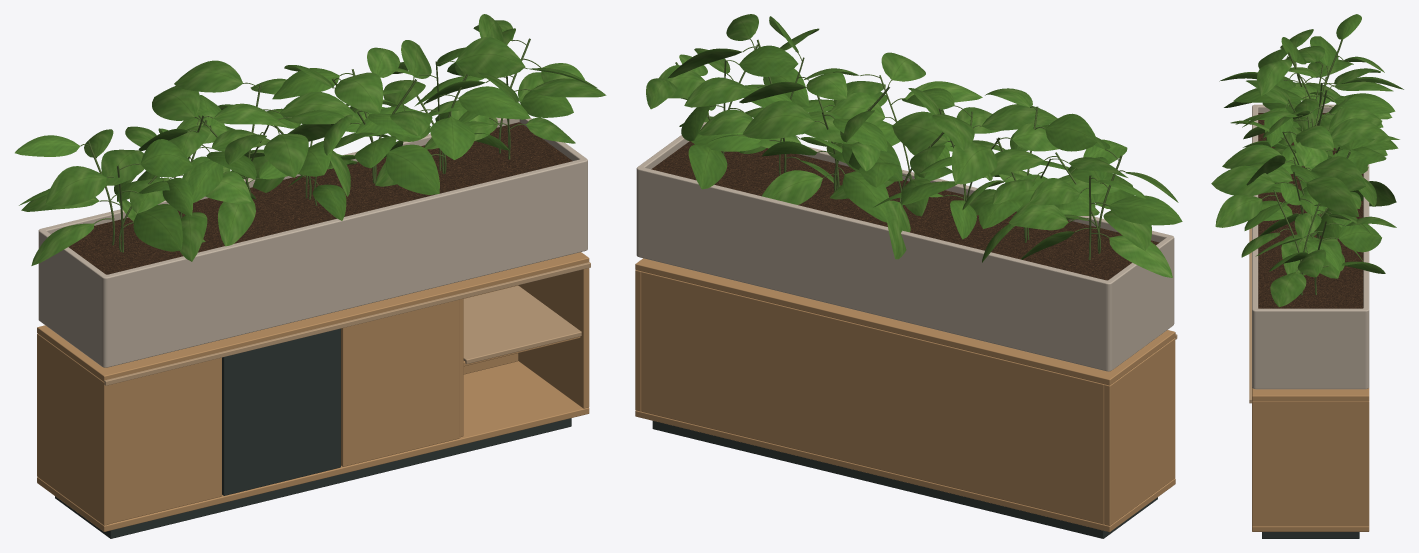
Rendered from botanicalDivider-13.glb.
3 views of the same model, side by side, from view 1: azimuth 30°, elevation 25°; view 2: azimuth 150°, elevation 25°; view 3: azimuth 270°, elevation 25° (orthographic). The views are drawn at different scales.
Parts seen in each view (by area): view 1: Planter_pothos_leaves, Planter_oiled_oak, StoragePlanter_Door (×3), StoragePlanter_Side (×2), Planter_loose_soil, StoragePlanter_Bottom, StoragePlanter_Top, StoragePlanter_OpenShelf, StoragePlanter_Plinth, Planter_pothos_stems, StoragePlanter_AccentRail, StoragePlanter_Divider; view 2: StoragePlanter_Back, Planter_pothos_leaves, Planter_oiled_oak, Planter_loose_soil, StoragePlanter_Side (×2), StoragePlanter_Top, StoragePlanter_Plinth, StoragePlanter_Bottom, Planter_pothos_stems; view 3: Planter_pothos_leaves, StoragePlanter_Side, Planter_oiled_oak, Planter_loose_soil, Planter_pothos_stems, StoragePlanter_Top, StoragePlanter_Bottom, StoragePlanter_Plinth, StoragePlanter_AccentRail.
Part boxes in pixels (x1,y1,x2,y2): Planter_pothos_leaves: (15, 14, 606, 265); Planter_oiled_oak: (38, 117, 587, 367); StoragePlanter_Door (×3): (109, 299, 459, 523); StoragePlanter_Side (×2): (37, 268, 589, 525); Planter_loose_soil: (68, 122, 572, 274); StoragePlanter_Bottom: (37, 361, 589, 531); StoragePlanter_Top: (37, 252, 589, 381); StoragePlanter_OpenShelf: (463, 285, 581, 363); StoragePlanter_Plinth: (55, 418, 571, 538); Planter_pothos_stems: (80, 38, 541, 252); StoragePlanter_AccentRail: (104, 262, 590, 385); StoragePlanter_Divider: (459, 298, 463, 437); StoragePlanter_Back: (641, 271, 1104, 524); Planter_pothos_leaves: (646, 14, 1182, 277); Planter_oiled_oak: (636, 122, 1174, 371); Planter_loose_soil: (651, 141, 1159, 280); StoragePlanter_Side (×2): (635, 270, 1175, 525); StoragePlanter_Top: (635, 258, 1175, 385); StoragePlanter_Plinth: (652, 421, 1157, 538); StoragePlanter_Bottom: (635, 410, 1175, 532); Planter_pothos_stems: (675, 39, 1125, 259); Planter_pothos_leaves: (1211, 14, 1403, 307); StoragePlanter_Side: (1252, 401, 1369, 526); Planter_oiled_oak: (1252, 104, 1369, 389); Planter_loose_soil: (1258, 113, 1363, 308); Planter_pothos_stems: (1262, 39, 1350, 295); StoragePlanter_Top: (1252, 387, 1369, 401); StoragePlanter_Bottom: (1252, 526, 1369, 531); StoragePlanter_Plinth: (1262, 532, 1359, 538); StoragePlanter_AccentRail: (1249, 228, 1251, 403).
Bounding box in the file's own units: 2.26 × 1.58 × 0.7924.
Materials: 10 (2 with a texture image).
